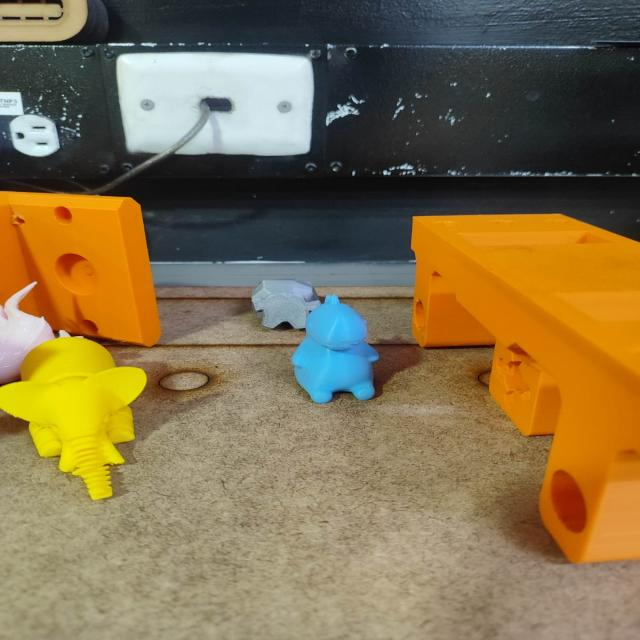DINO: (276, 280, 396, 406)
